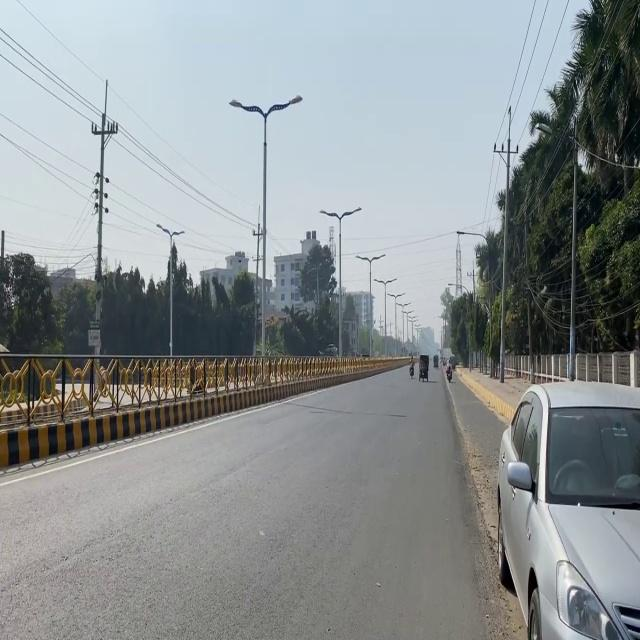Broken-road: (506, 374, 640, 640)
Construction-barrier: (455, 366, 515, 425)
Downstairs: (418, 354, 429, 381)
Fallen-tree: (445, 364, 453, 382), (418, 365, 427, 381)
Pole: (2, 336, 300, 478)
